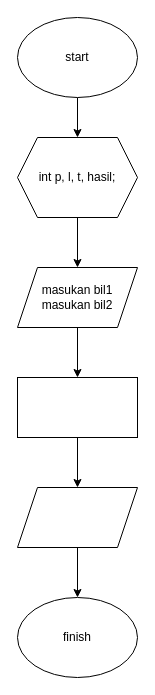
Some shapes in this 155 by 695 pixel diagram are drawn without their labels. The centre of each missing label's shape, as x and y in pixels:
"cin>>p cin>>l cin>>t hasil = p * l * t" belongs at [77,407].
"hasil" belongs at [77,517].
